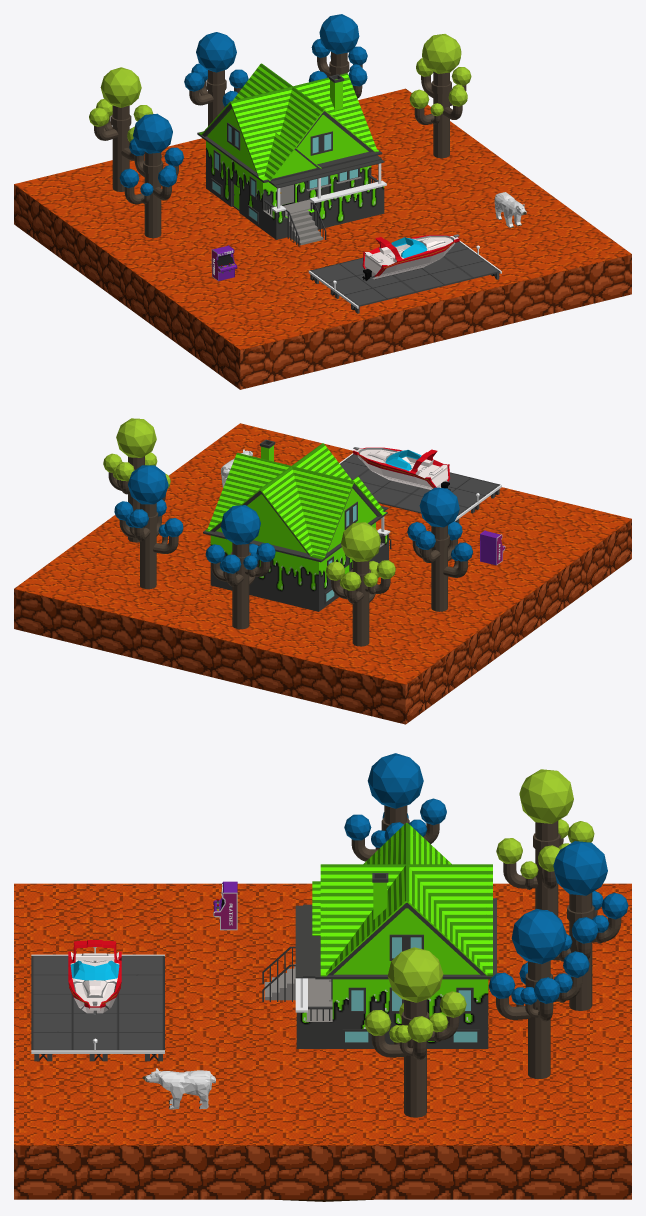
3 renders of one model, top to bottom at view 1: azimuth 30°, elevation 25°; view 2: azimuth 150°, elevation 25°; view 3: azimuth 270°, elevation 25°, orthographic. The views are drawn at different scales.
Visible parts, largest first — view 1: Cube.001, Cube.754, VEHICLES_BOAT, OBJRANDOM_ARCADE, ANIMAL_OSO_POLAR; view 2: Cube.001, Cube.754, VEHICLES_BOAT, OBJRANDOM_ARCADE; view 3: Cube.001, Cube.754, VEHICLES_BOAT, ANIMAL_OSO_POLAR, OBJRANDOM_ARCADE.
Part boxes in pixels (<box>): Cube.001: <box>14,14,631,389</box>; Cube.754: <box>197,63,386,246</box>; VEHICLES_BOAT: <box>362,234,459,280</box>; OBJRANDOM_ARCADE: <box>211,245,237,281</box>; ANIMAL_OSO_POLAR: <box>494,192,526,228</box>; Cube.001: <box>14,418,631,724</box>; Cube.754: <box>203,439,391,611</box>; VEHICLES_BOAT: <box>353,447,450,490</box>; OBJRANDOM_ARCADE: <box>480,530,505,565</box>; Cube.001: <box>14,753,631,1199</box>; Cube.754: <box>262,823,496,1048</box>; VEHICLES_BOAT: <box>68,940,121,1014</box>; ANIMAL_OSO_POLAR: <box>142,1068,215,1109</box>; OBJRANDOM_ARCADE: <box>213,881,237,930</box>.
Bounding box in the file's own units: 4000 × 1730 × 4000.
38 materials, 5 textured.
